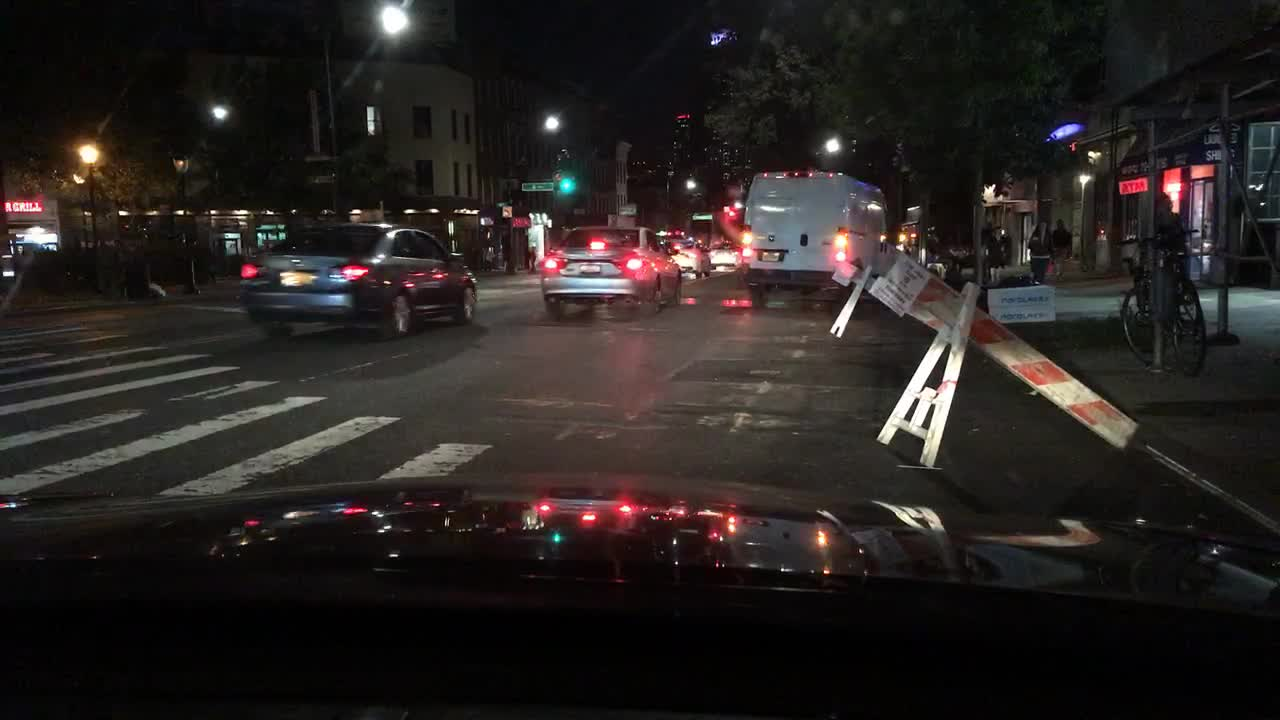bike: (1119, 242, 1212, 379)
car: (238, 219, 481, 334), (741, 168, 898, 309), (539, 222, 686, 318), (659, 238, 714, 279), (706, 238, 740, 272)
person: (1025, 220, 1051, 286), (1051, 214, 1075, 282), (985, 238, 1006, 283)
traffic light: (556, 175, 577, 193)
traffic sign: (519, 181, 555, 192), (618, 205, 637, 215), (690, 212, 713, 219), (500, 205, 512, 217)
